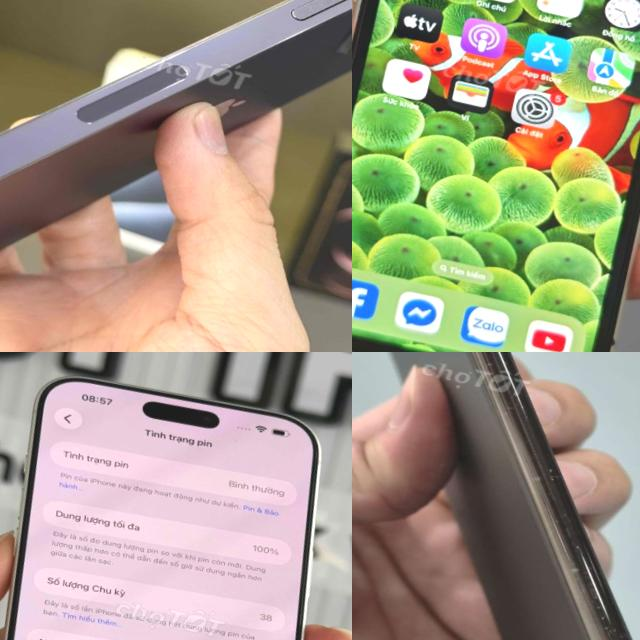gen_11: (391, 352, 632, 640)
gen_14: (0, 0, 352, 248)
gen_17: (0, 352, 352, 640)
gen_x_xs: (352, 0, 640, 352)
scratch: (560, 575, 628, 640), (534, 505, 590, 567), (525, 441, 573, 498), (496, 384, 540, 429), (467, 352, 508, 384)
